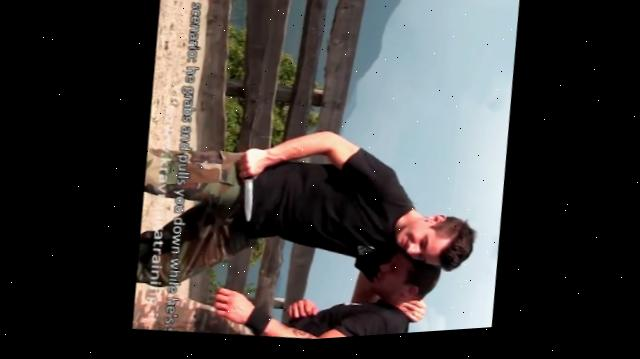pocket-knife: (233, 173, 261, 228)
